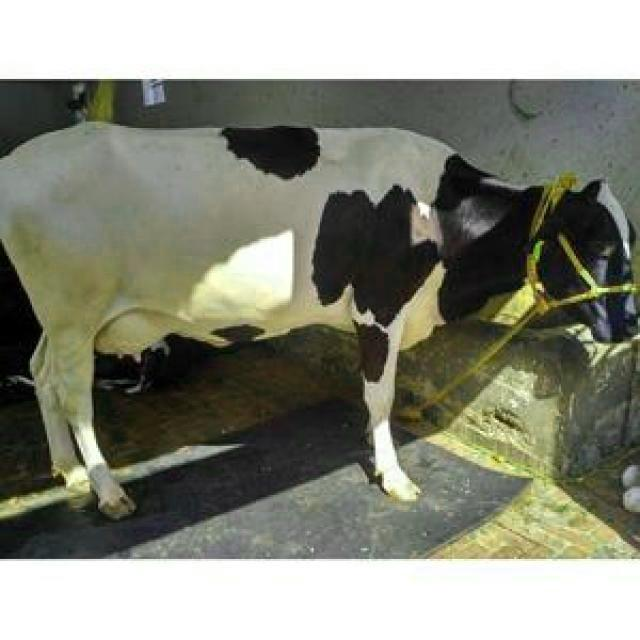cow: (0, 122, 635, 518)
